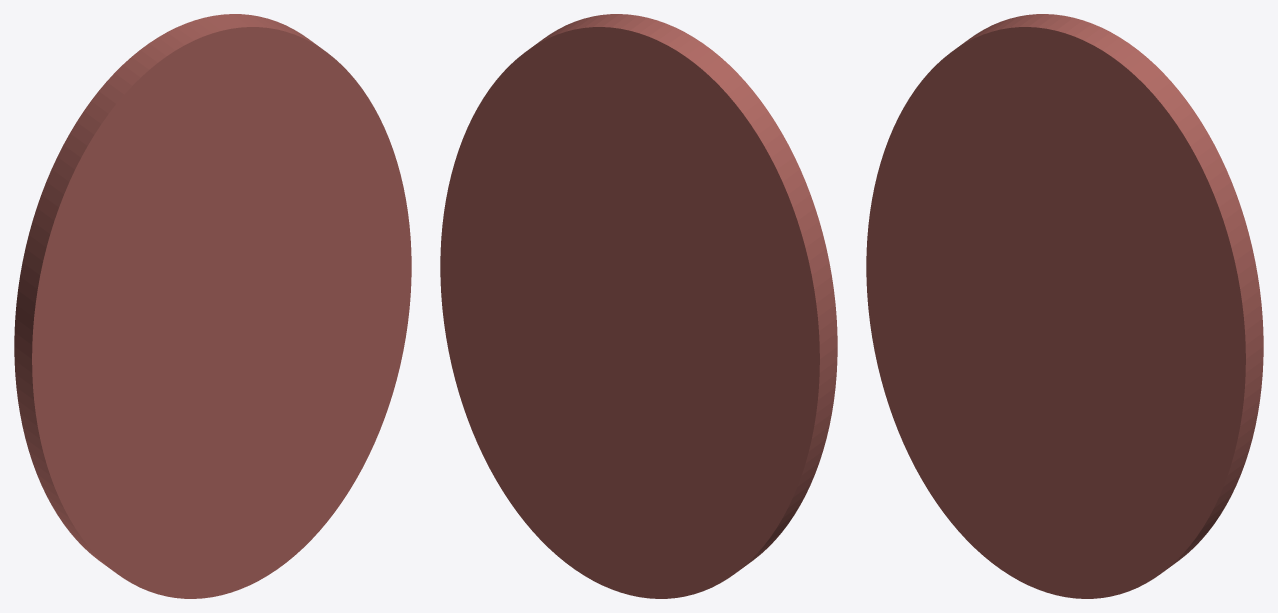
File: abdominal_wall.glb
3 views of the same model, side by side, from view 1: azimuth 30°, elevation 25°; view 2: azimuth 150°, elevation 25°; view 3: azimuth 330°, elevation 25° (orthographic).
Parts seen in each view (by area): view 1: abdominal_wall; view 2: abdominal_wall; view 3: abdominal_wall.
Boxes of the visible parts, x1,y1,x2,y2 form: abdominal_wall: (14,14,411,598); abdominal_wall: (440,14,837,598); abdominal_wall: (866,14,1263,598).
Bounding box in the file's own units: 0.3458 × 0.4914 × 0.028.
